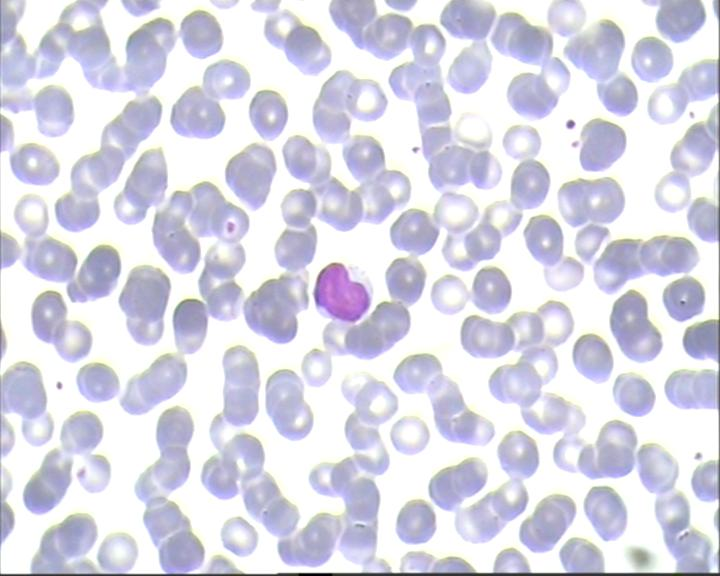lymp: (311, 255, 378, 328)
